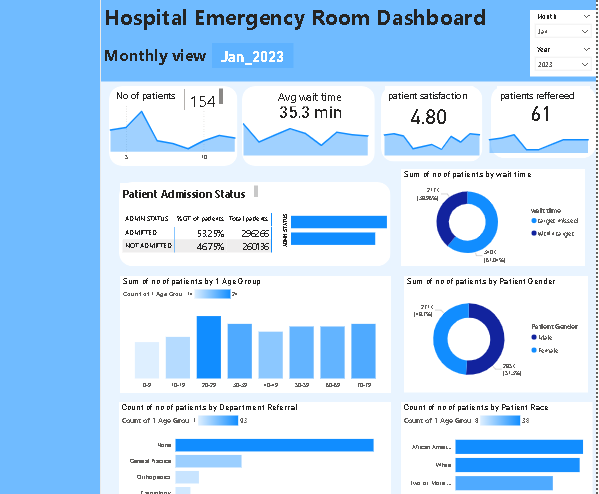

What the dashboard file says about the page in this screenshot:
{"tool":"powerbi","page":{"name":"Page 1","canvas":[1200,1199],"ordinal":0},"visuals":[{"type":"shape","box":[0,0,210,1198.6],"z":0},{"type":"shape","box":[210,0,990,165],"z":1000},{"type":"textbox","box":[210,0,990,82.5],"z":2000},{"type":"textbox","box":[210,82.5,990,102.5],"z":3000},{"type":"shape","box":[225.7,174.3,257.1,160],"z":4000},{"type":"multiRowCard","fields":{"Values":["CountNonNull(Hospital ER_Data.no of patients)"]},"box":[370,174.3,88.6,52.9],"z":5000},{"type":"slicer","fields":{"Values":["Date Table.Year"]},"box":[1067.1,88.6,132.9,67.1],"z":6000},{"type":"slicer","fields":{"Values":["Date Table.Month Name"]},"box":[1067.1,21.4,132.9,67.1],"z":7000},{"type":"textbox","box":[234.3,174.3,162.9,38.6],"z":8000},{"type":"card","fields":{"Values":["Min(Date Table.month and year)"]},"box":[431.4,88.6,162.9,50],"z":9000},{"type":"shape","box":[492.9,174.3,265.7,160],"z":10000},{"type":"textbox","box":[557.1,174.3,148.6,40],"z":11000},{"type":"card","fields":{"Values":["Hospital ER_Data.avg"]},"box":[540,210,178.6,47.1],"z":12000},{"type":"areaChart","fields":{"Y":["Avg(Hospital ER_Data.Patient Waittime)"],"Category":["Date Table.Date.Variation.Date Hierarchy.Year","Date Table.Date.Variation.Date Hierarchy.Quarter","Date Table.Date.Variation.Date Hierarchy.Month","Date Table.Date.Variation.Date Hierarchy.Day"]},"box":[480,217.1,278.6,100],"z":13000},{"type":"shape","box":[770,174.3,202.9,151.4],"z":14000},{"type":"areaChart","fields":{"Category":["Date Table.Date.Variation.Date Hierarchy.Day"],"Y":["Sum(Hospital ER_Data.no of patients)"]},"box":[214.3,202.9,278.6,131.4],"z":15000},{"type":"textbox","box":[777.1,174.3,177.1,38.6],"z":16000},{"type":"card","fields":{"Values":["Hospital ER_Data.satisfaction"]},"box":[810,207.1,110,47.1],"z":17000},{"type":"shape","box":[990,174.3,210,144.3],"z":18000},{"type":"areaChart","fields":{"Y":["Avg(Hospital ER_Data.Patient Waittime)"],"Category":["Hospital ER_Data.Patient Satisfaction Score"]},"box":[761.4,247.1,220,70],"z":19000},{"type":"areaChart","fields":{"Y":["Hospital ER_Data.No of Patient Referred"],"Category":["Date Table.Date.Variation.Date Hierarchy.Day"]},"box":[972.9,244.3,227.1,70],"z":20000},{"type":"card","fields":{"Values":["Hospital ER_Data.No of Patient Referred"]},"box":[1030,202.9,120,47.1],"z":21000},{"type":"textbox","box":[1001.4,174.3,185.7,38.6],"z":22000},{"type":"shape","box":[246.7,366.7,543.3,168.3],"z":22500},{"type":"pivotTable","fields":{"Rows":["Hospital ER_Data.ADMN STATUS"],"Values":["Sum(Hospital ER_Data.no of patients)","Sum(Hospital ER_Data.no of patients)1"]},"box":[247.5,421.2,310,93.8],"z":23000},{"type":"barChart","fields":{"Category":["Hospital ER_Data.ADMN STATUS"],"Y":["Sum(Hospital ER_Data.no of patients)"]},"box":[568.8,403.8,221.2,111.2],"z":23001},{"type":"textbox","box":[247.5,367.5,281.2,36.2],"z":23002},{"type":"columnChart","fields":{"Category":["Hospital ER_Data.1 Age Group"],"Y":["Sum(Hospital ER_Data.no of patients)"]},"box":[248,554,542,234],"z":23005},{"type":"barChart","fields":{"Category":["Hospital ER_Data.Department Referral"],"Y":["CountNonNull(Hospital ER_Data.no of patients)"]},"box":[246,806,544,342],"z":23006},{"type":"donutChart","fields":{"Category":["Hospital ER_Data.wait time"],"Y":["Sum(Hospital ER_Data.no of patients)"]},"box":[810,340,368,194],"z":23007},{"type":"donutChart","fields":{"Category":["Hospital ER_Data.Patient Gender","Hospital ER_Data.wait time"],"Y":["Sum(Hospital ER_Data.no of patients)"]},"box":[816.7,553.3,368.3,233.3],"z":23008},{"type":"barChart","fields":{"Category":["Hospital ER_Data.Patient Race"],"Y":["CountNonNull(Hospital ER_Data.no of patients)"]},"box":[810,806.2,382.5,342.5],"z":23009}]}

Visuals, with their boxes on the page's 1200x1199 design canvas (x1, y1, x2, y2). These are canvas units, not pixel positions in the 599x494 screenshot, which may show the page scaled, cropped or inside an application window:
shape: 0:0:210:1199
shape: 210:0:1200:165
textbox: 210:0:1200:82
textbox: 210:82:1200:185
shape: 226:174:483:334
multiRowCard - CountNonNull(Hospital ER_Data.no of patients): 370:174:459:227
slicer - Date Table.Year: 1067:89:1200:156
slicer - Date Table.Month Name: 1067:21:1200:88
textbox: 234:174:397:213
card - Min(Date Table.month and year): 431:89:594:139
shape: 493:174:759:334
textbox: 557:174:706:214
card - Hospital ER_Data.avg: 540:210:719:257
areaChart - Avg(Hospital ER_Data.Patient Waittime) x Date Table.Date.Variation.Date Hierarchy.Year: 480:217:759:317
shape: 770:174:973:326
areaChart - Date Table.Date.Variation.Date Hierarchy.Day x Sum(Hospital ER_Data.no of patients): 214:203:493:334
textbox: 777:174:954:213
card - Hospital ER_Data.satisfaction: 810:207:920:254
shape: 990:174:1200:319
areaChart - Avg(Hospital ER_Data.Patient Waittime) x Hospital ER_Data.Patient Satisfaction Score: 761:247:981:317
areaChart - Hospital ER_Data.No of Patient Referred x Date Table.Date.Variation.Date Hierarchy.Day: 973:244:1200:314
card - Hospital ER_Data.No of Patient Referred: 1030:203:1150:250
textbox: 1001:174:1187:213
shape: 247:367:790:535
pivotTable - Hospital ER_Data.ADMN STATUS x Sum(Hospital ER_Data.no of patients): 248:421:558:515
barChart - Hospital ER_Data.ADMN STATUS x Sum(Hospital ER_Data.no of patients): 569:404:790:515
textbox: 248:368:529:404
columnChart - Hospital ER_Data.1 Age Group x Sum(Hospital ER_Data.no of patients): 248:554:790:788
barChart - Hospital ER_Data.Department Referral x CountNonNull(Hospital ER_Data.no of patients): 246:806:790:1148
donutChart - Hospital ER_Data.wait time x Sum(Hospital ER_Data.no of patients): 810:340:1178:534
donutChart - Hospital ER_Data.Patient Gender x Hospital ER_Data.wait time: 817:553:1185:787
barChart - Hospital ER_Data.Patient Race x CountNonNull(Hospital ER_Data.no of patients): 810:806:1192:1149
